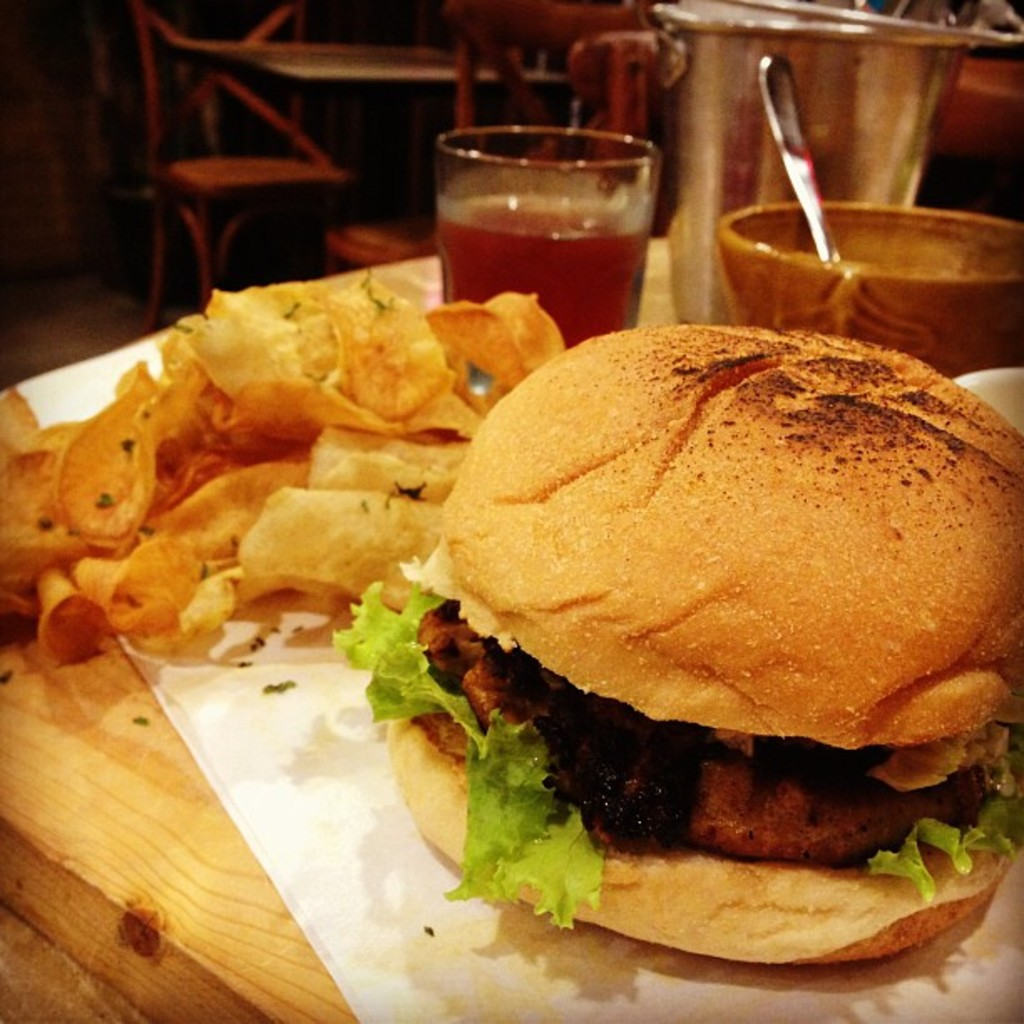Hamburger: (334, 327, 1022, 975)
